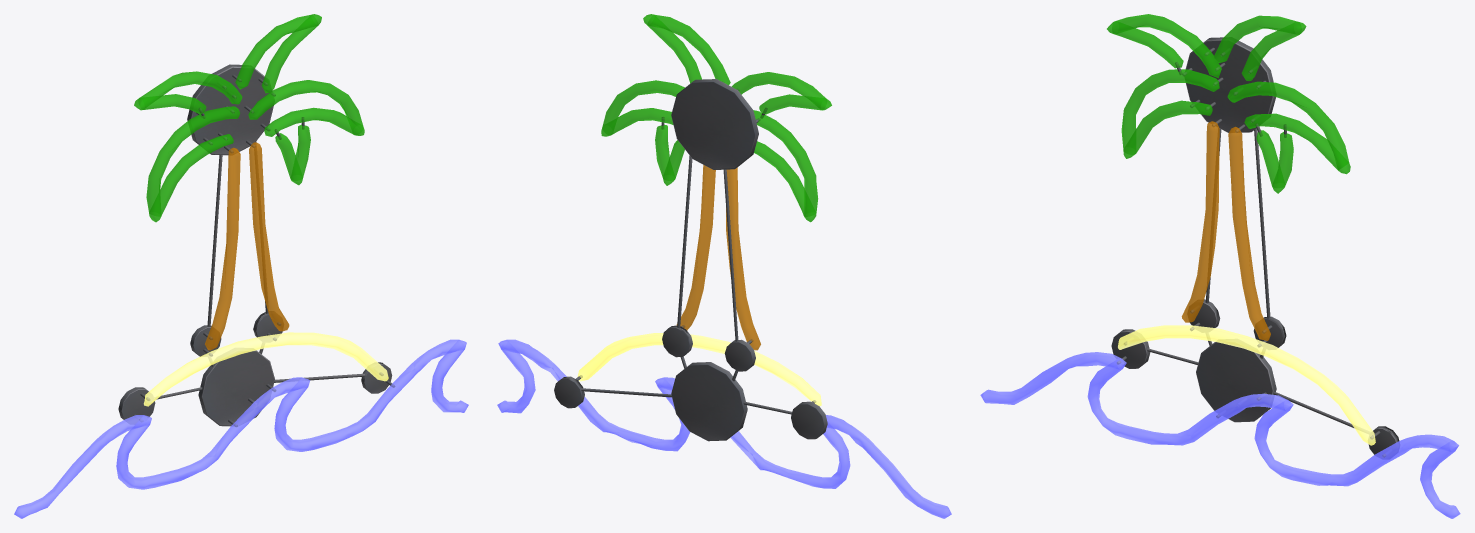
The model's file is neon_palm.glb.
3 views of the same model, side by side, from view 1: azimuth 30°, elevation 25°; view 2: azimuth 150°, elevation 25°; view 3: azimuth 330°, elevation 25° (orthographic). The views are drawn at different scales.
Parts seen in each view (by area): view 1: Object_6, Object_2, Object_3, Object_5, Object_4; view 2: Object_2, Object_6, Object_3, Object_5, Object_4; view 3: Object_6, Object_2, Object_3, Object_5, Object_4.
Part boxes in pixels (<box>): Object_6: <box>134,14,364,222</box>; Object_2: <box>118,64,394,426</box>; Object_3: <box>14,339,468,518</box>; Object_5: <box>205,142,289,350</box>; Object_4: <box>143,332,388,406</box>; Object_2: <box>554,79,827,441</box>; Object_6: <box>601,14,831,222</box>; Object_3: <box>497,339,951,518</box>; Object_5: <box>676,165,760,350</box>; Object_4: <box>577,333,821,405</box>; Object_6: <box>1107,14,1350,193</box>; Object_2: <box>1111,37,1399,457</box>; Object_3: <box>980,352,1460,518</box>; Object_5: <box>1181,121,1270,340</box>; Object_4: <box>1118,325,1375,445</box>.
Size of the model in its own units: 1.2 by 1.1 by 0.0675.
5 materials, 3 textured.
